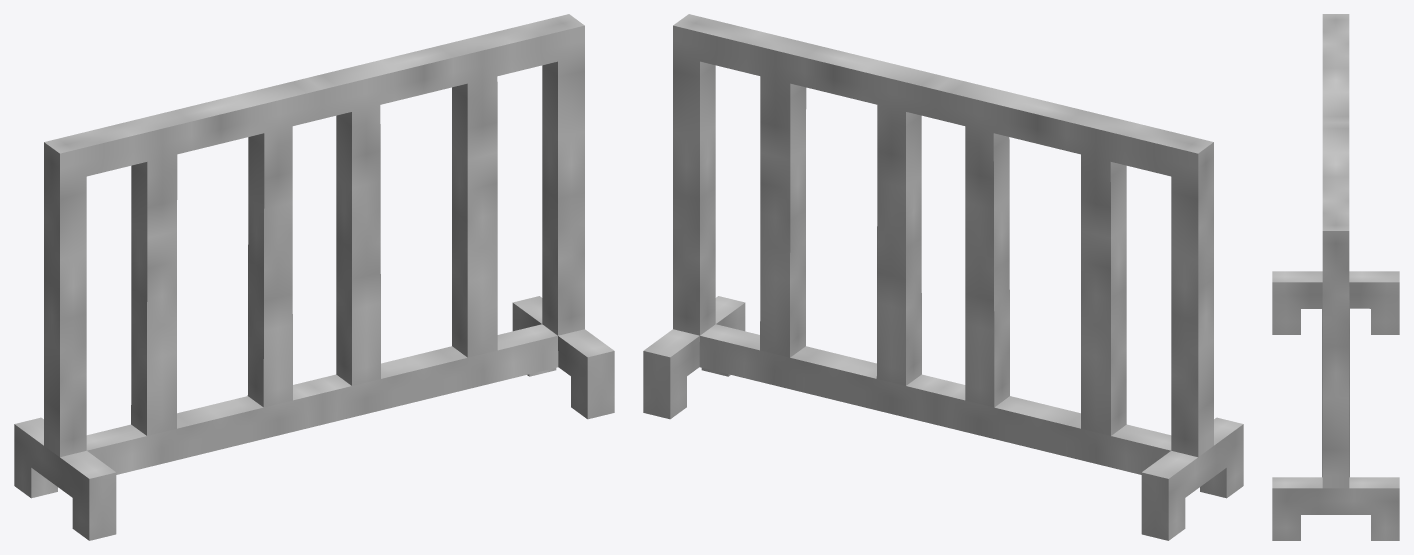
Rendered from barriere.fbx.
3 renders of one model, left to right at view 1: azimuth 30°, elevation 25°; view 2: azimuth 150°, elevation 25°; view 3: azimuth 270°, elevation 25°, orthographic. The views are drawn at different scales.
Parts seen in each view (by area): view 1: barrier; view 2: barrier; view 3: barrier.
Boxes of the visible parts, x1,y1,x2,y2 form: barrier: (14, 14, 614, 540); barrier: (643, 14, 1243, 540); barrier: (1272, 14, 1399, 540).
Size of the model in its own units: 17.65 by 11.74 by 4.37.
